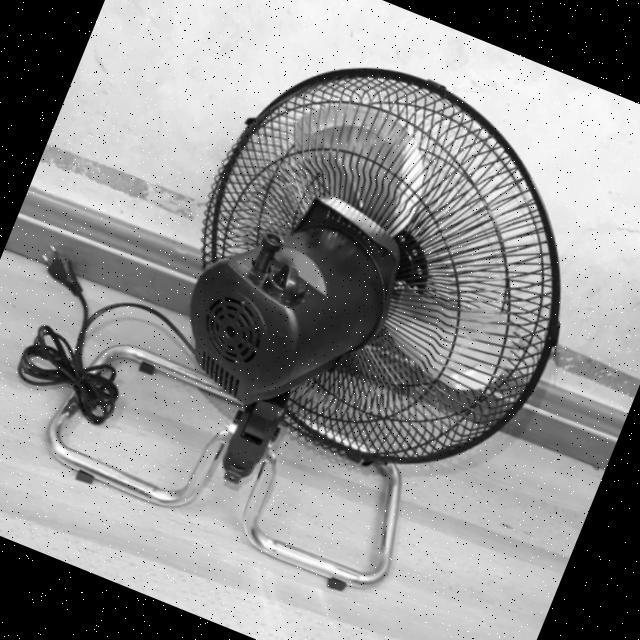fan: (121, 0, 640, 524)
